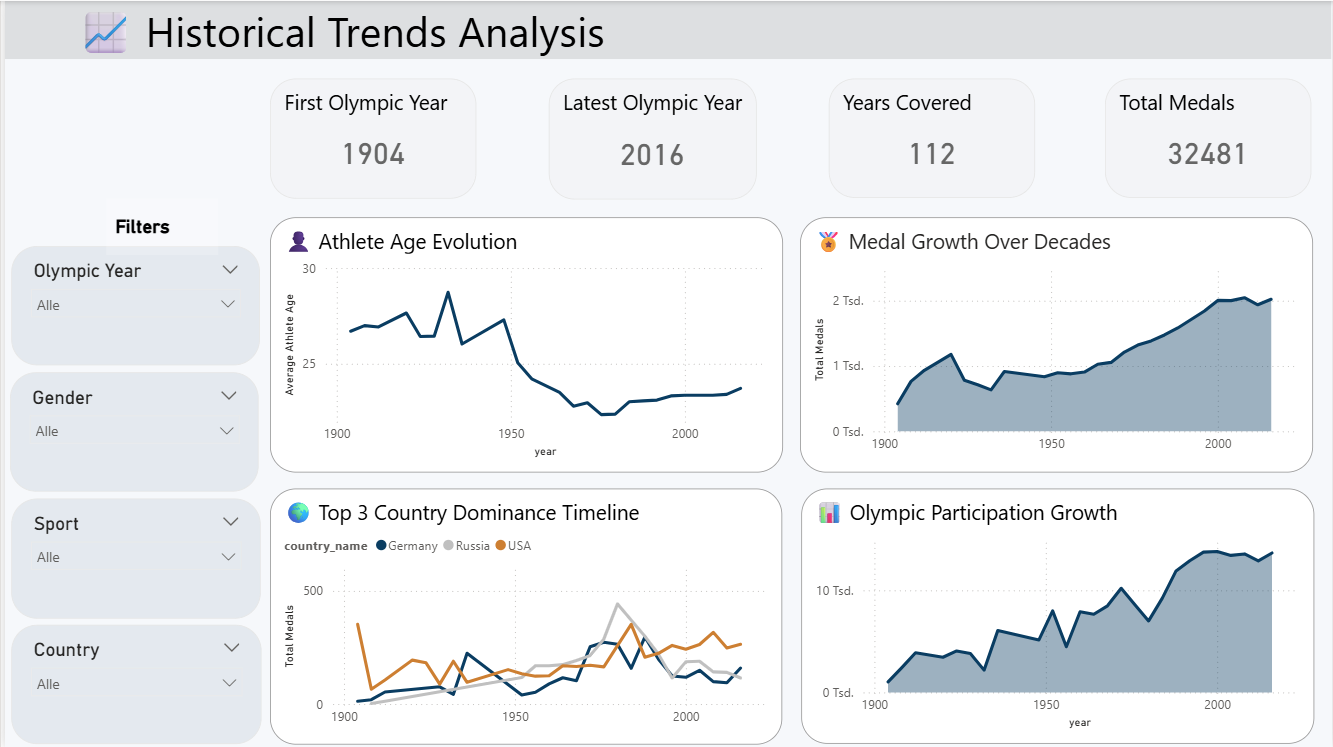

Layout of this report page (visuals, bound fields, positions):
{"tool":"powerbi","page":{"name":"Historical Trends ","canvas":[1280,720],"ordinal":5},"visuals":[{"type":"lineChart","title":"👤 Athlete Age Evolution","fields":{"Y":["DAX_Measures.Average Athlete Age"],"Category":["dim_date.year"]},"box":[256.4,209,495,246],"z":0},{"type":"areaChart","title":"🏅 Medal Growth Over Decades","fields":{"Category":["dim_date.year"],"Y":["DAX_Measures.Total Medals"]},"box":[767.5,209,495,246],"z":1000},{"type":"areaChart","title":"📊 Olympic Participation Growth","fields":{"Category":["dim_date.year"],"Y":["DAX_Measures.Total Participations"]},"box":[768.2,471,495,246],"z":2000},{"type":"card","title":"First Olympic Year","fields":{"Values":["DAX_Measures.First Olympic Year"]},"box":[256,75,199.3,116.2],"z":3000},{"type":"card","title":"Latest Olympic Year","fields":{"Values":["DAX_Measures.Latest Olympic Year"]},"box":[525.2,75,200.5,116.9],"z":4000},{"type":"card","title":"Years Covered","fields":{"Values":["DAX_Measures.Years Covered"]},"box":[795,75,199.1,115.4],"z":5000},{"type":"card","title":"Total Medals","fields":{"Values":["DAX_Measures.Total Medals"]},"box":[1061.9,75,199.1,115.4],"z":6000},{"type":"shape","box":[0,0,1280.4,55.9],"z":7000},{"type":"lineChart","title":"🌍 Top 5 Country Dominance Timeline","fields":{"Y":["DAX_Measures.Total Medals"],"Category":["dim_date.year"],"Series":["dim_countries.country_name"]},"box":[256.3,471,494.8,247.4],"z":8000},{"type":"slicer","fields":{"Values":["dim_date.year"]},"box":[5.7,236.1,240.4,115.2],"z":9000},{"type":"slicer","title":"Filter","fields":{"Values":["dim_sports.sport_name"]},"box":[5.8,480.1,240.9,116.2],"z":10000},{"type":"slicer","title":"Filter","fields":{"Values":["dim_athletes.sex"]},"box":[5.1,358.4,240.4,115.2],"z":11000},{"type":"slicer","title":"Filter","fields":{"Values":["dim_countries.country_name"]},"box":[5.7,601.6,241.8,115.2],"z":12000},{"type":"shape","box":[98,190.5,107.8,54.6],"z":13000}]}

Visuals, with their boxes in screenshot pixels (x1, y1, x2, y2), scaled from the page's 1280x720 canvas onto the 1333x747 screenshot:
"👤 Athlete Age Evolution" lineChart: 267,217,783,472
"🏅 Medal Growth Over Decades" areaChart: 799,217,1315,472
"📊 Olympic Participation Growth" areaChart: 800,489,1316,744
"First Olympic Year" card: 267,78,474,198
"Latest Olympic Year" card: 547,78,756,199
"Years Covered" card: 828,78,1035,198
"Total Medals" card: 1106,78,1313,198
shape: 0,0,1332,58
"🌍 Top 5 Country Dominance Timeline" lineChart: 267,489,782,745
slicer - dim_date.year: 6,245,256,364
"Filter" slicer: 6,498,257,619
"Filter" slicer: 5,372,256,491
"Filter" slicer: 6,624,258,744
shape: 102,198,214,254
